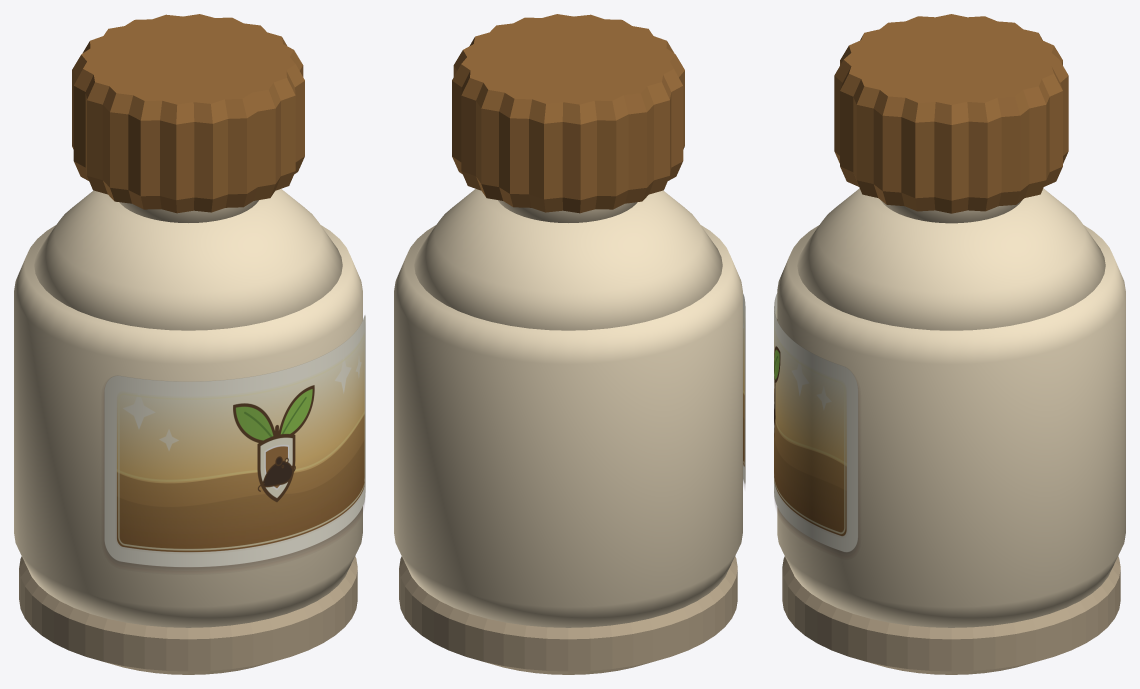
The model's file is LiquidPreparationBottleVoleControl.glb.
3 renders of one model, left to right at view 1: azimuth 30°, elevation 25°; view 2: azimuth 150°, elevation 25°; view 3: azimuth 270°, elevation 25°, orthographic.
Visible parts, largest first — view 1: LiquidPreparationBottleVoleControl_Body, LiquidPreparationBottleVoleControl_Label, LiquidPreparationBottleVoleControl_Cap, LiquidPreparationBottleVoleControl_Shoulder, LiquidPreparationBottleVoleControl_Base_Rim, LiquidPreparationBottleVoleControl_Neck; view 2: LiquidPreparationBottleVoleControl_Body, LiquidPreparationBottleVoleControl_Cap, LiquidPreparationBottleVoleControl_Shoulder, LiquidPreparationBottleVoleControl_Base_Rim, LiquidPreparationBottleVoleControl_Neck, LiquidPreparationBottleVoleControl_Label; view 3: LiquidPreparationBottleVoleControl_Body, LiquidPreparationBottleVoleControl_Cap, LiquidPreparationBottleVoleControl_Shoulder, LiquidPreparationBottleVoleControl_Label, LiquidPreparationBottleVoleControl_Base_Rim, LiquidPreparationBottleVoleControl_Neck.
Boxes of the visible parts, x1=… form: LiquidPreparationBottleVoleControl_Body: x1=14, y1=225, x2=362, y2=627; LiquidPreparationBottleVoleControl_Label: x1=104, y1=315, x2=365, y2=570; LiquidPreparationBottleVoleControl_Cap: x1=72, y1=14, x2=304, y2=213; LiquidPreparationBottleVoleControl_Shoulder: x1=34, y1=189, x2=342, y2=330; LiquidPreparationBottleVoleControl_Base_Rim: x1=19, y1=556, x2=357, y2=674; LiquidPreparationBottleVoleControl_Neck: x1=119, y1=200, x2=258, y2=222; LiquidPreparationBottleVoleControl_Body: x1=394, y1=225, x2=742, y2=627; LiquidPreparationBottleVoleControl_Cap: x1=452, y1=14, x2=684, y2=213; LiquidPreparationBottleVoleControl_Shoulder: x1=414, y1=189, x2=722, y2=330; LiquidPreparationBottleVoleControl_Base_Rim: x1=399, y1=556, x2=737, y2=674; LiquidPreparationBottleVoleControl_Neck: x1=498, y1=200, x2=637, y2=222; LiquidPreparationBottleVoleControl_Label: x1=743, y1=293, x2=745, y2=485; LiquidPreparationBottleVoleControl_Body: x1=777, y1=225, x2=1125, y2=627; LiquidPreparationBottleVoleControl_Cap: x1=834, y1=14, x2=1068, y2=213; LiquidPreparationBottleVoleControl_Shoulder: x1=797, y1=188, x2=1105, y2=330; LiquidPreparationBottleVoleControl_Label: x1=774, y1=293, x2=858, y2=554; LiquidPreparationBottleVoleControl_Base_Rim: x1=782, y1=556, x2=1120, y2=674; LiquidPreparationBottleVoleControl_Neck: x1=881, y1=200, x2=1021, y2=223.
Size of the model in its own units: 0.69 by 1.23 by 0.696.
Materials: 5 (1 with a texture image).
